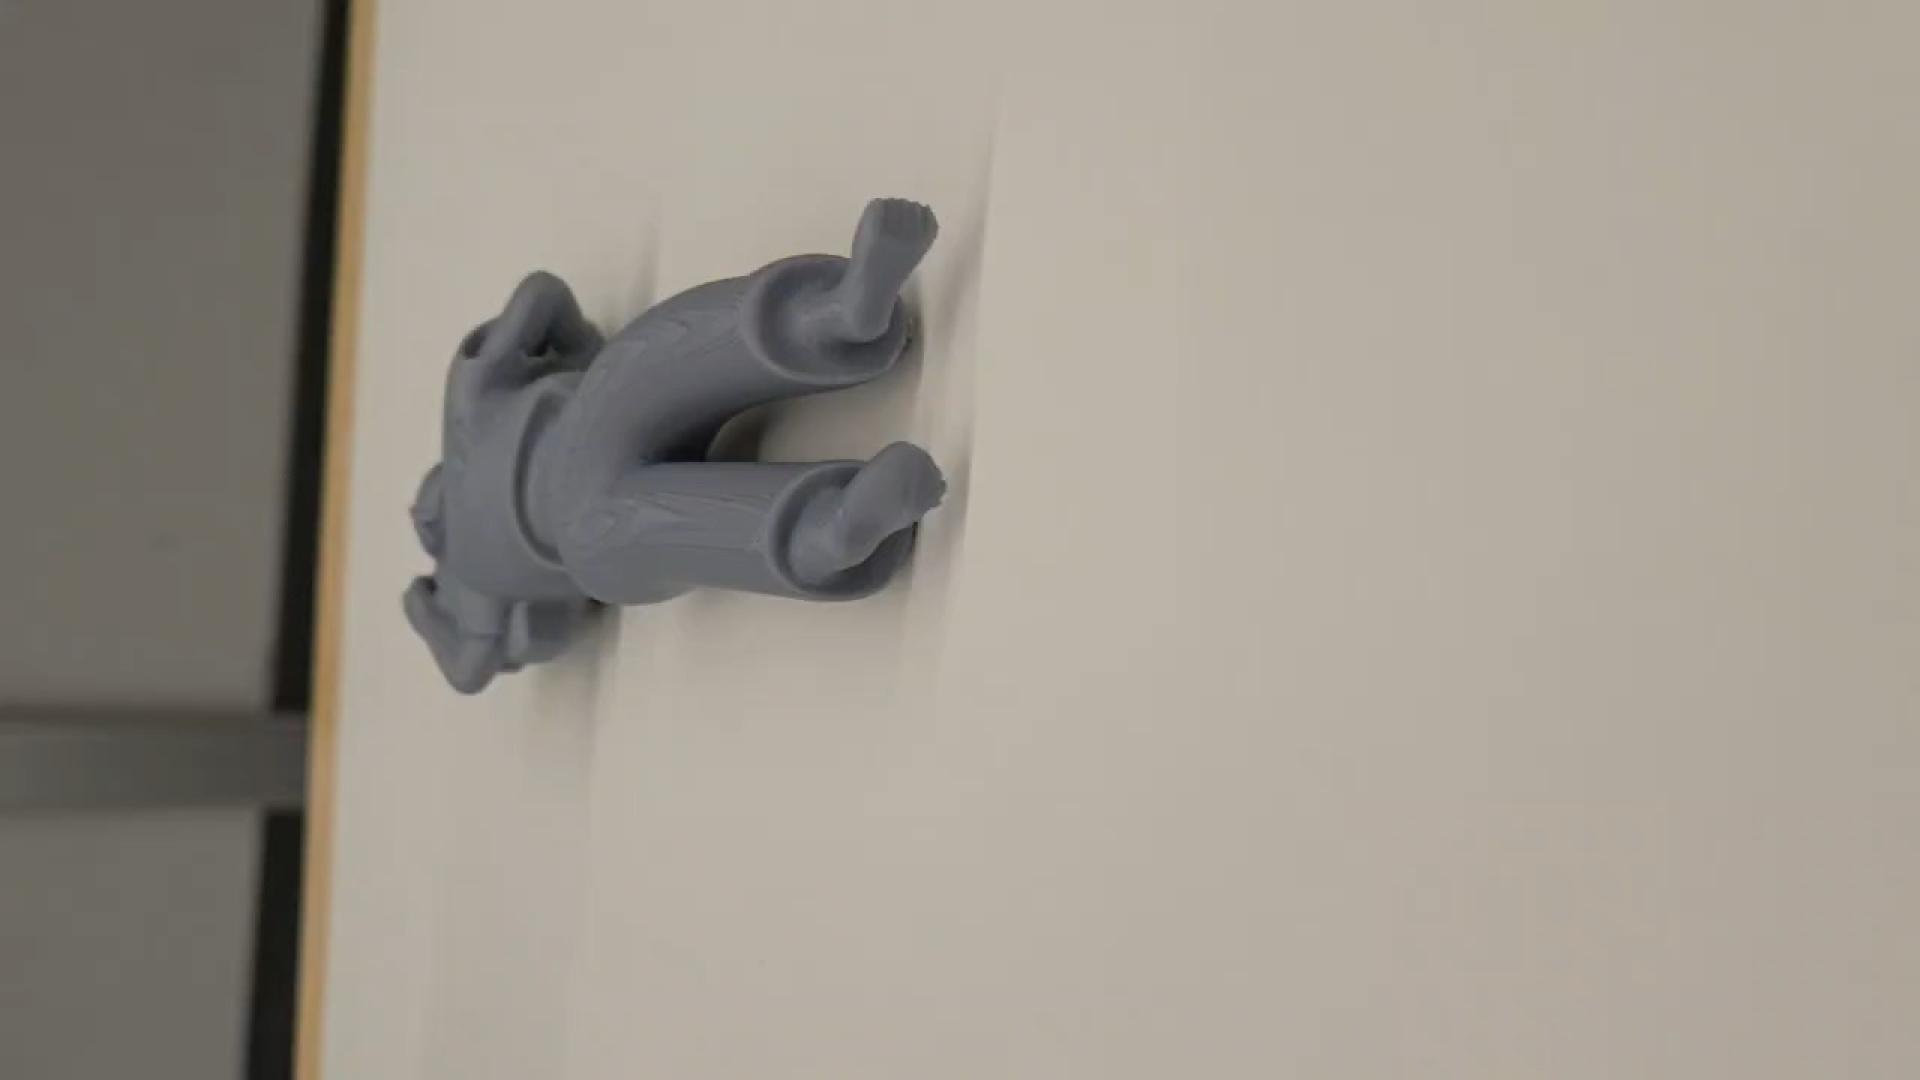Bad-style: (404, 196, 952, 709)
